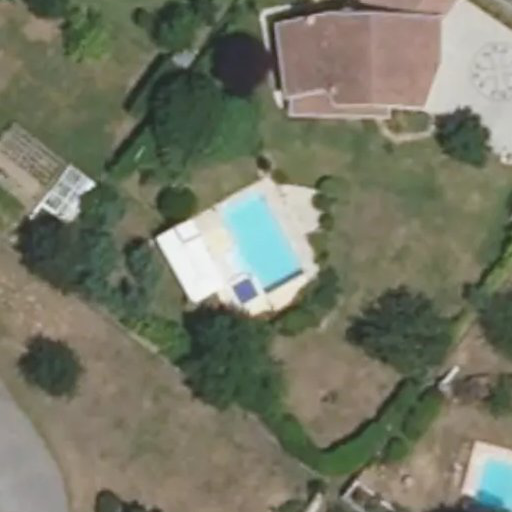pool: (212, 211, 299, 272)
